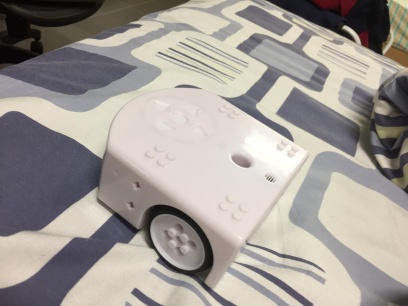thymio: (91, 79, 312, 291)
